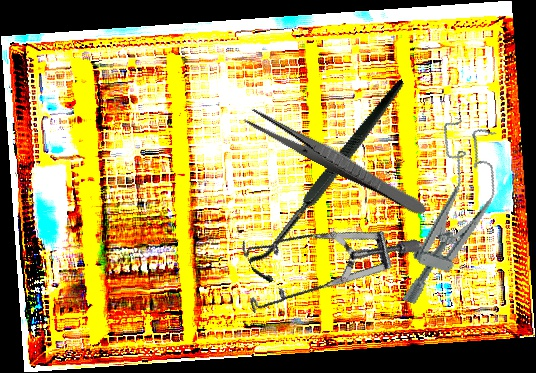Dressing Forceps: (241, 104, 432, 219)
Hook Surgical: (206, 79, 456, 287)
Speculum: (220, 180, 424, 362), (388, 114, 514, 318)
